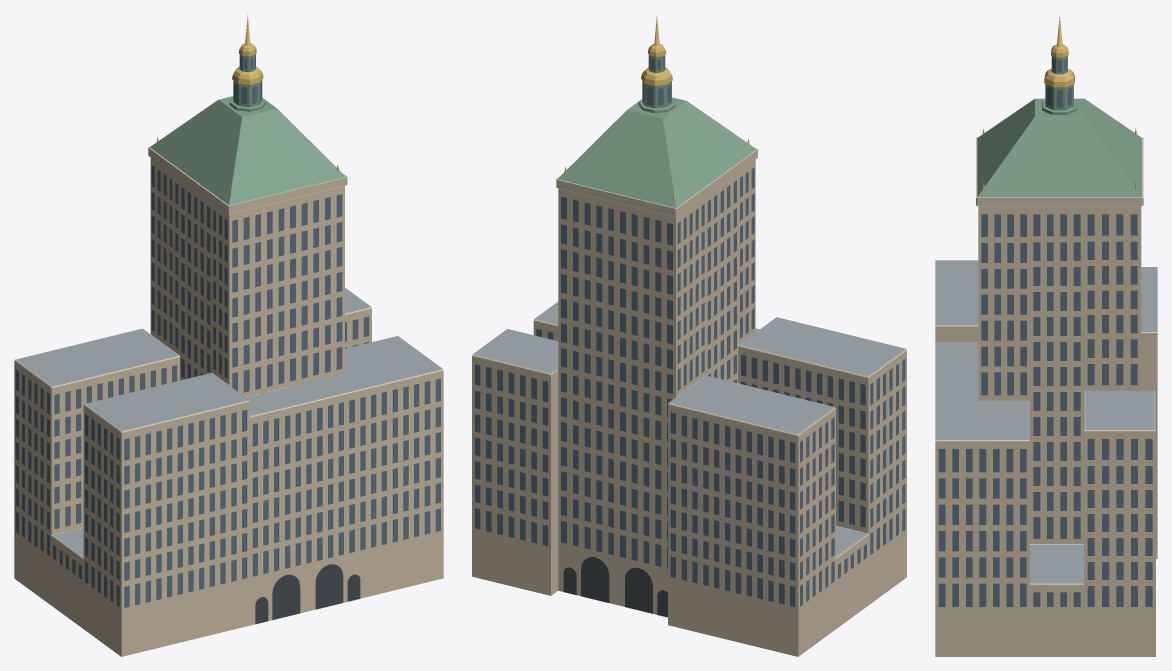
Rendered from nyc-helmsley-building.glb.
The picture shows the model from 3 angles, left to right: view 1: azimuth 30°, elevation 25°; view 2: azimuth 150°, elevation 25°; view 3: azimuth 270°, elevation 25°; orthographic projection. The views are drawn at different scales.
Visible parts, largest first — view 1: Helmsley Building; view 2: Helmsley Building; view 3: Helmsley Building.
Part boxes in pixels (x1=…): Helmsley Building: x1=14, y1=14, x2=443, y2=656; Helmsley Building: x1=472, y1=15, x2=906, y2=656; Helmsley Building: x1=935, y1=15, x2=1157, y2=656.
Bounding box in the file's own units: 105 × 172 × 60.41.
